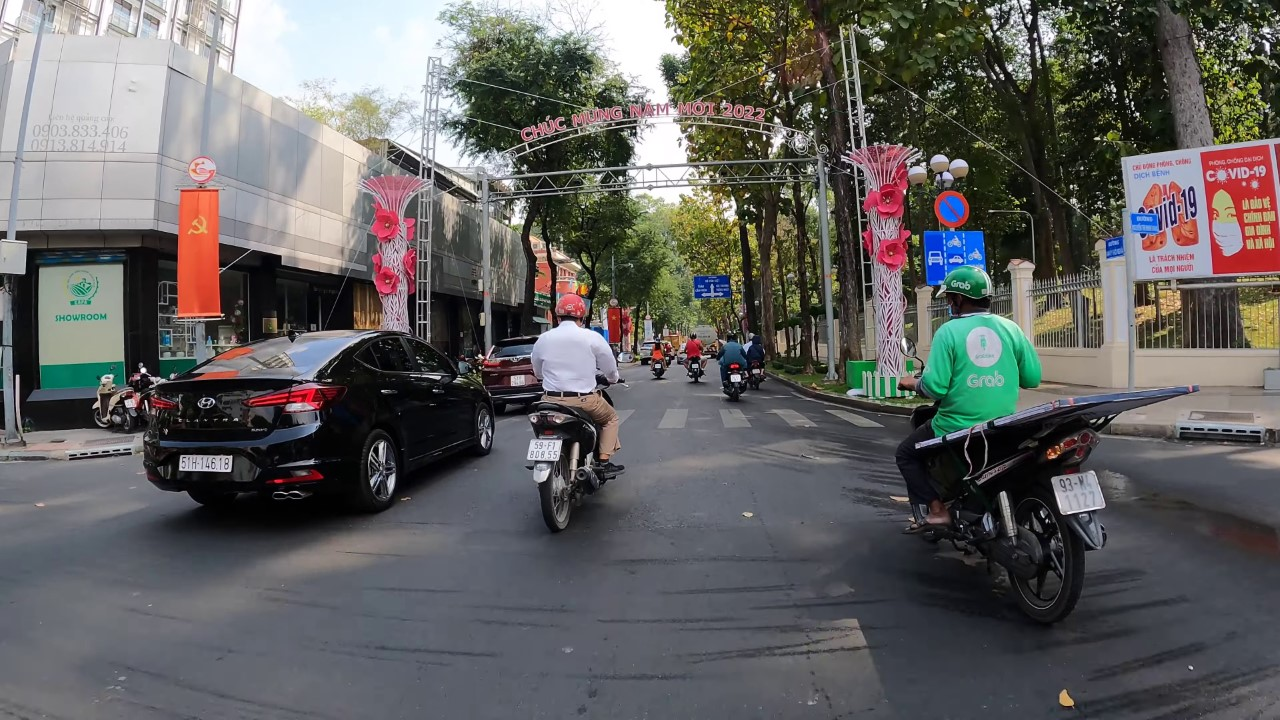cam_do_xe: (932, 186, 972, 230)
